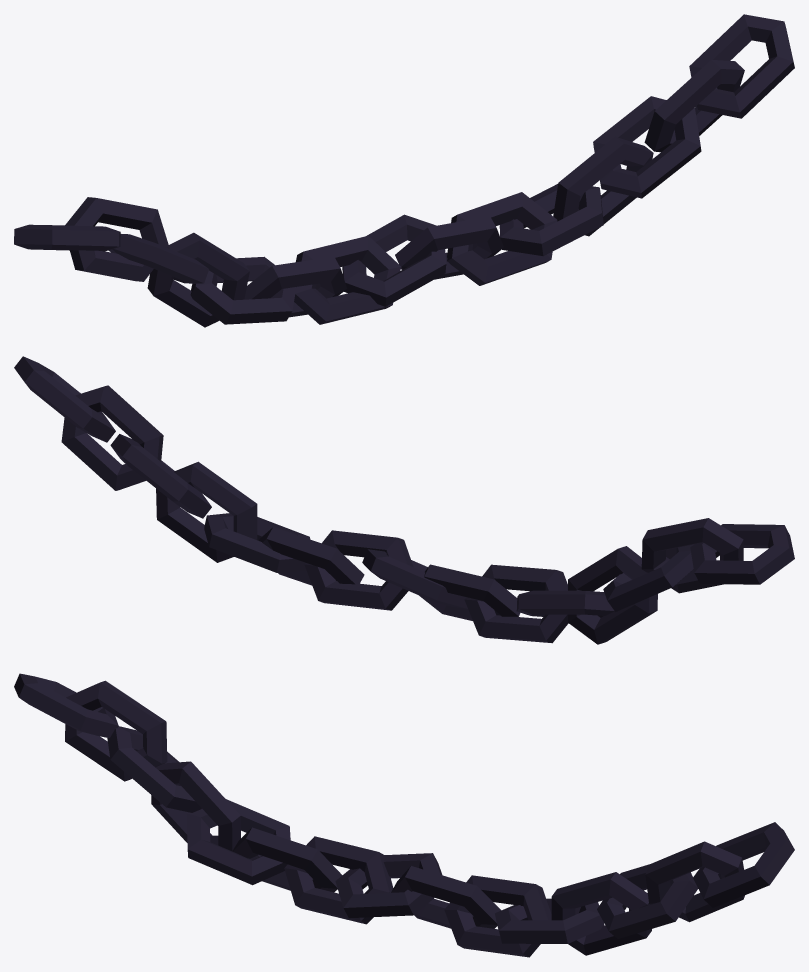
The model's file is MDungeon_Chain_Hanging_01.FBX.
3 views of the same model, one above another, from view 1: azimuth 30°, elevation 25°; view 2: azimuth 150°, elevation 25°; view 3: azimuth 330°, elevation 25° (orthographic). The views are drawn at different scales.
Visible parts, largest first — view 1: MDungeon_Chain_Hanging_01_LOD0; view 2: MDungeon_Chain_Hanging_01_LOD0; view 3: MDungeon_Chain_Hanging_01_LOD0.
Part boxes in pixels (box(x1,y1,x2,y2)): MDungeon_Chain_Hanging_01_LOD0: box(14, 14, 794, 327); MDungeon_Chain_Hanging_01_LOD0: box(14, 356, 794, 644); MDungeon_Chain_Hanging_01_LOD0: box(14, 673, 794, 957).
Size of what is drawn, in the model's own units: 2.12 by 0.4659 by 0.2245.
